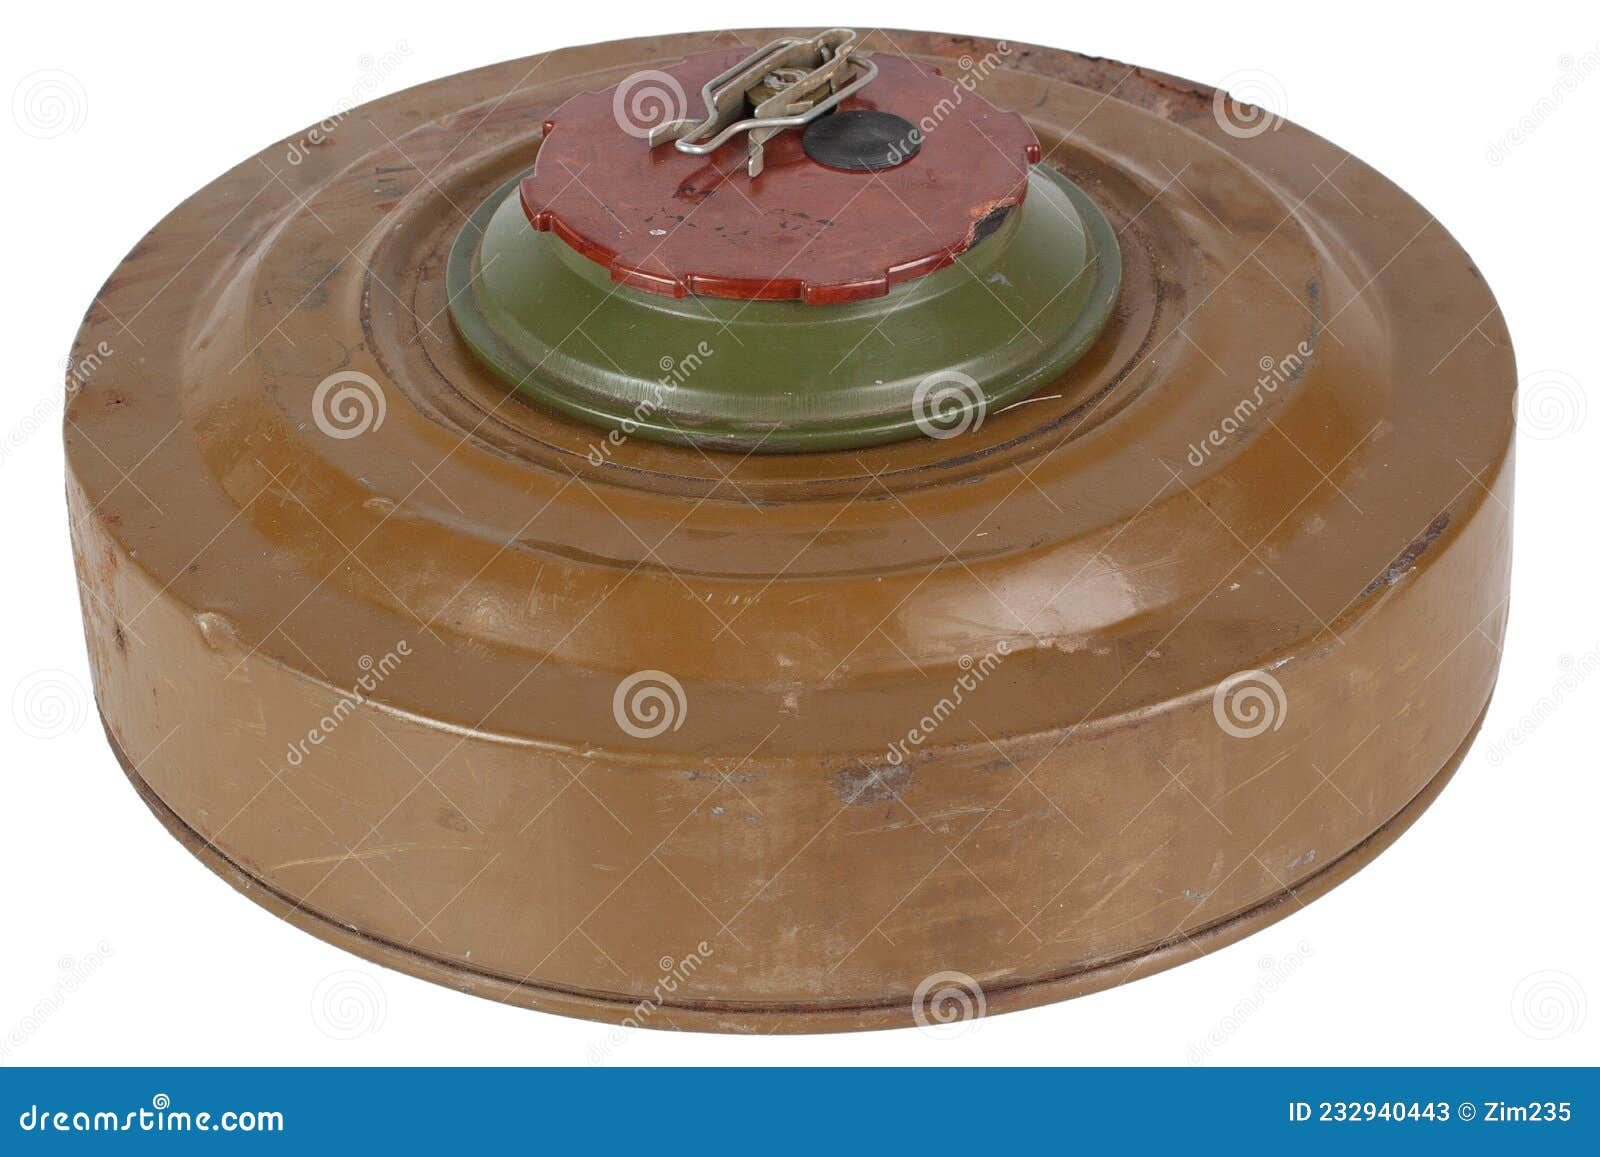car: (16, 2, 1508, 1017)
